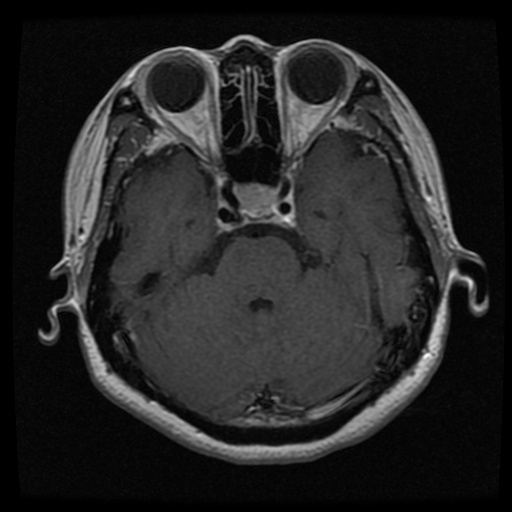pituitary: (235, 183, 277, 216)
